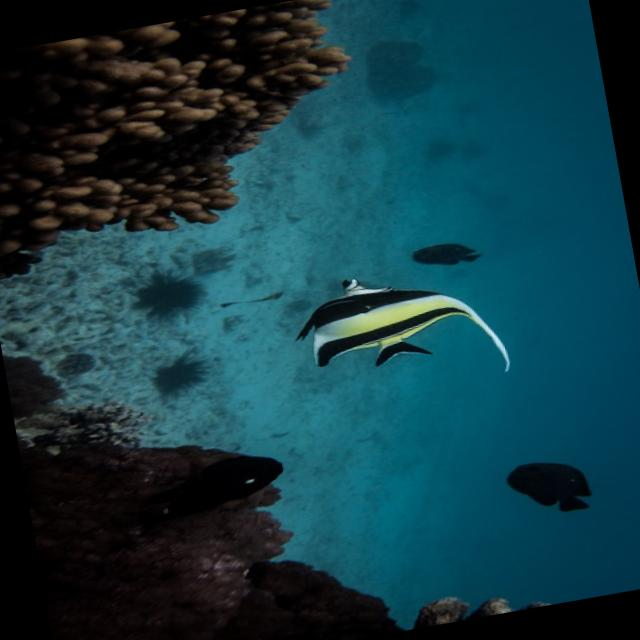MorishIdol: (284, 251, 516, 408)
